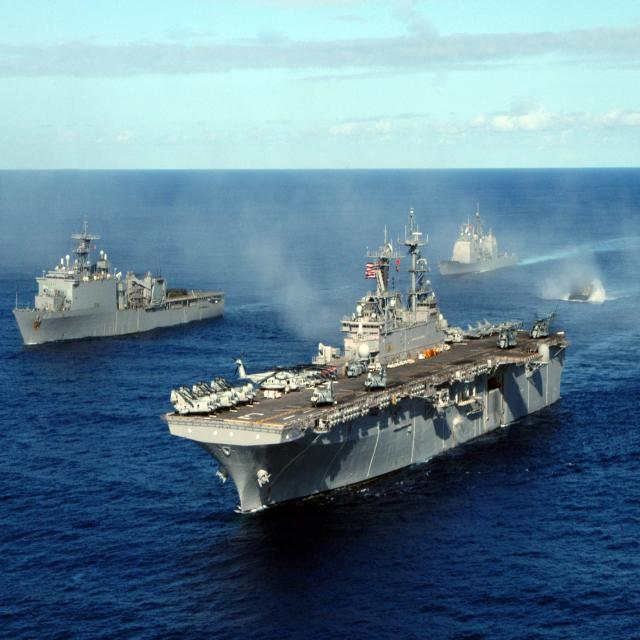navalvessels: (159, 249, 595, 510), (10, 213, 246, 347), (438, 202, 521, 285)
